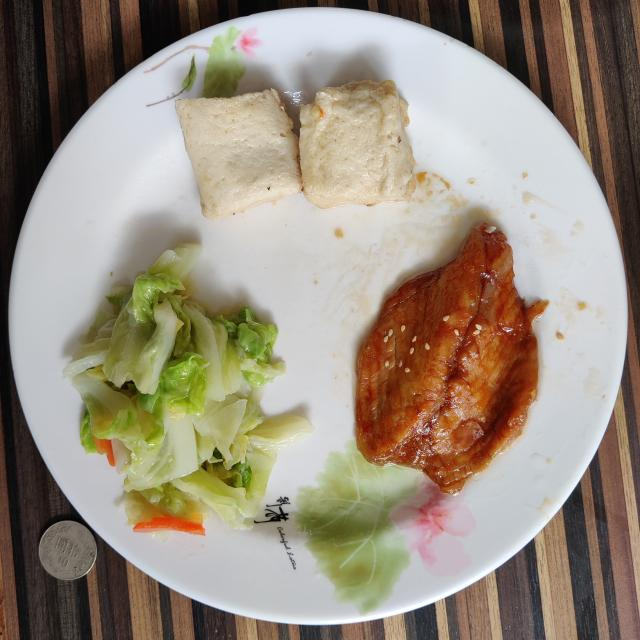Kabayaki sea bream fillet: (356, 222, 549, 494)
cabbage: (64, 244, 312, 534)
coin: (39, 520, 98, 580)
creamy tofu -without sauce-: (176, 80, 416, 220)
